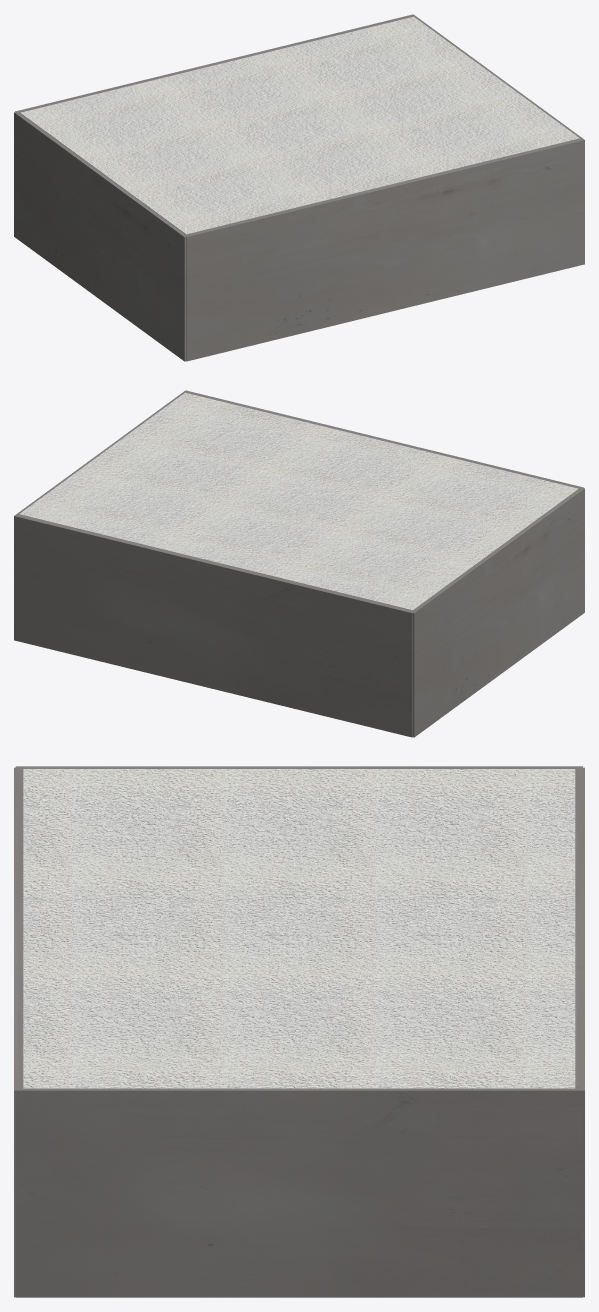
The model's file is apartment.glb.
The picture shows the model from 3 angles, top to bottom: view 1: azimuth 30°, elevation 25°; view 2: azimuth 150°, elevation 25°; view 3: azimuth 270°, elevation 25°; orthographic projection. The views are drawn at different scales.
Visible parts, largest first — view 1: Cube.001, WallLeft, WallForward, WallRight, WallBack; view 2: Cube.001, WallRight, WallForward, WallLeft, WallBack; view 3: Cube.001, WallBack, WallRight, WallLeft, WallForward.
Part boxes in pixels (bbox=[...]): Cube.001: bbox=[20, 16, 579, 234]; WallLeft: bbox=[184, 139, 584, 361]; WallForward: bbox=[14, 112, 186, 361]; WallRight: bbox=[15, 14, 415, 113]; WallBack: bbox=[408, 15, 583, 139]; Cube.001: bbox=[19, 392, 578, 610]; WallRight: bbox=[14, 514, 414, 737]; WallForward: bbox=[412, 488, 584, 737]; WallLeft: bbox=[182, 390, 583, 489]; WallBack: bbox=[17, 390, 190, 515]; Cube.001: bbox=[23, 769, 575, 1088]; WallBack: bbox=[15, 1086, 582, 1297]; WallRight: bbox=[574, 767, 584, 1297]; WallLeft: bbox=[14, 767, 24, 1297]; WallForward: bbox=[15, 766, 582, 768].
Bounding box in the file's own units: 28.01 × 8.35 × 20.83.
12 materials, 12 textured.
